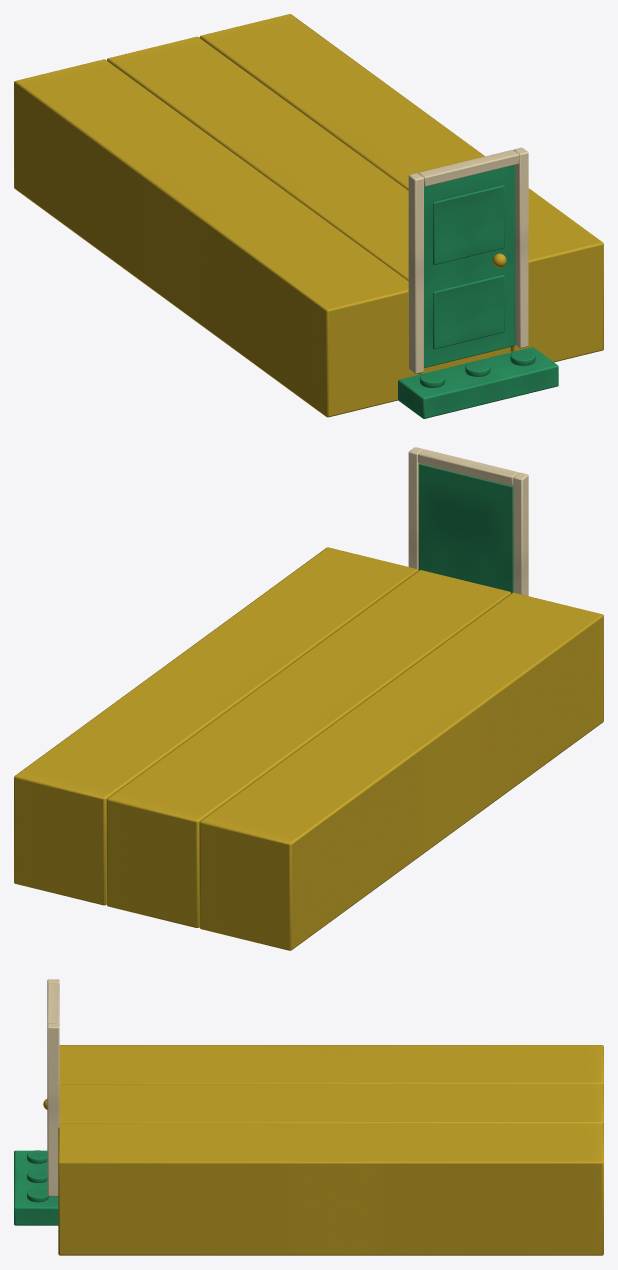
File: 1-left-toy-leg-course-1-1.fbx
3 renders of one model, top to bottom at view 1: azimuth 30°, elevation 25°; view 2: azimuth 150°, elevation 25°; view 3: azimuth 270°, elevation 25°, orthographic. The views are drawn at different scales.
Visible parts, largest first — view 1: left-toy-leg-course-1-1; view 2: left-toy-leg-course-1-1; view 3: left-toy-leg-course-1-1.
Boxes of the visible parts, left/top/right/bottom form: left-toy-leg-course-1-1: left=14, top=14, right=603, bottom=418; left-toy-leg-course-1-1: left=14, top=447, right=603, bottom=950; left-toy-leg-course-1-1: left=14, top=979, right=603, bottom=1255.
Bounding box in the file's own units: 4085 × 3140 × 8650.
1 material, 1 textured.
